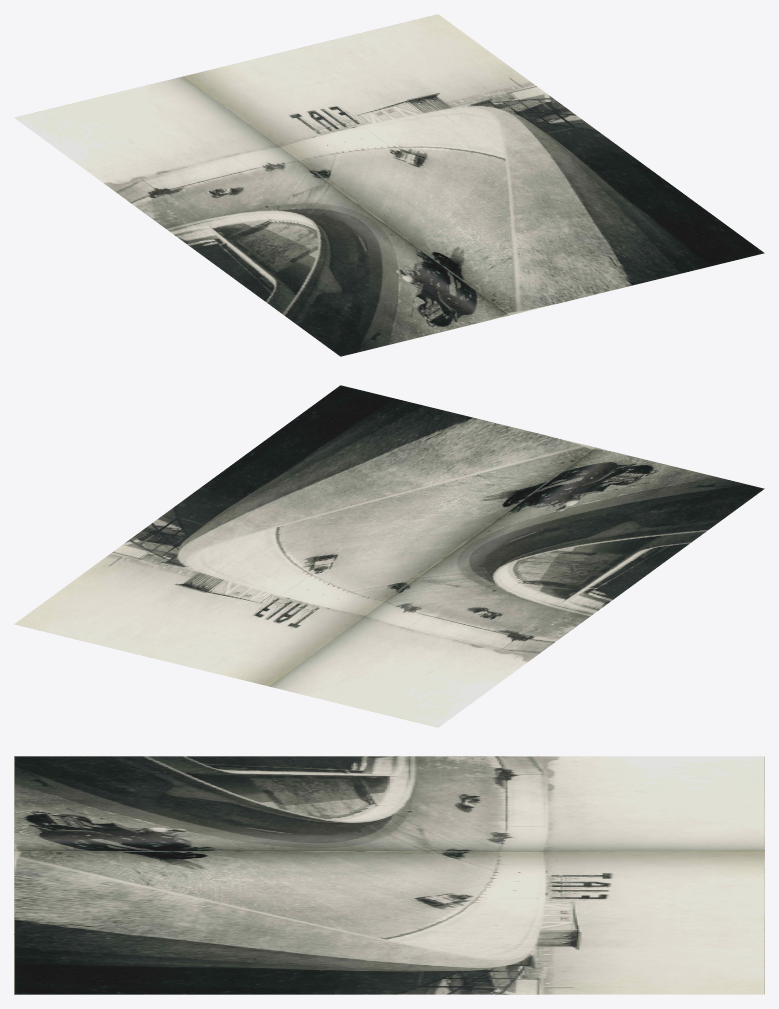
The model's file is prova.obj.
3 renders of one model, top to bottom at view 1: azimuth 30°, elevation 25°; view 2: azimuth 150°, elevation 25°; view 3: azimuth 270°, elevation 25°, orthographic. The views are drawn at different scales.
Visible parts, largest first — view 1: Plane001; view 2: Plane001; view 3: Plane001.
Part boxes in pixels (x1,y1,x2,y2): Plane001: [14, 14, 764, 356]; Plane001: [14, 385, 764, 727]; Plane001: [14, 756, 764, 994].
Bounding box in the file's own units: 3.54 × 0 × 4.72.
